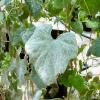Squash Powdery mildew leaf: (25, 24, 79, 88), (9, 46, 28, 87), (19, 23, 39, 45), (24, 0, 43, 21)
